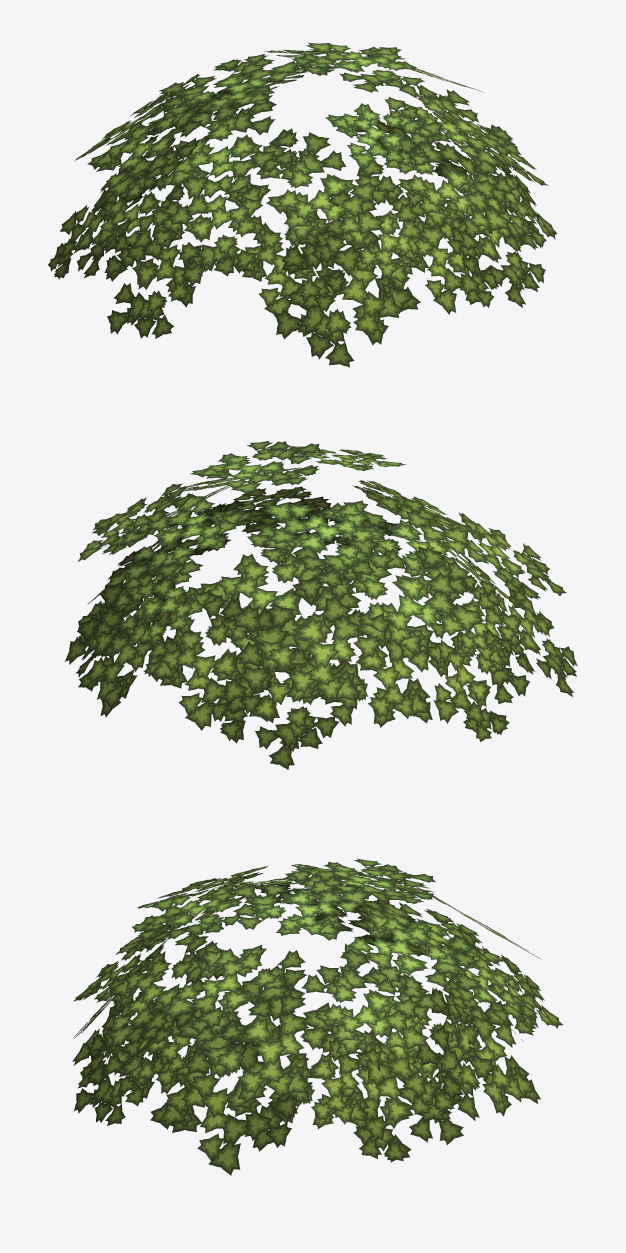
The model's file is clover_a.glb.
3 renders of one model, top to bottom at view 1: azimuth 30°, elevation 25°; view 2: azimuth 150°, elevation 25°; view 3: azimuth 270°, elevation 25°, orthographic. The views are drawn at different scales.
Parts seen in each view (by area): view 1: clover_a; view 2: clover_a; view 3: clover_a.
Boxes of the visible parts, left/top/right/bottom form: clover_a: left=48, top=42, right=556, bottom=367; clover_a: left=64, top=441, right=577, bottom=769; clover_a: left=72, top=858, right=563, bottom=1175.
Size of the model in its own units: 2.05 by 0.9482 by 1.99.
Materials: 1 (1 with a texture image).
